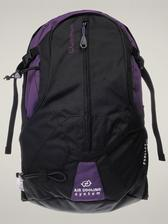bag: (2, 9, 165, 216)
